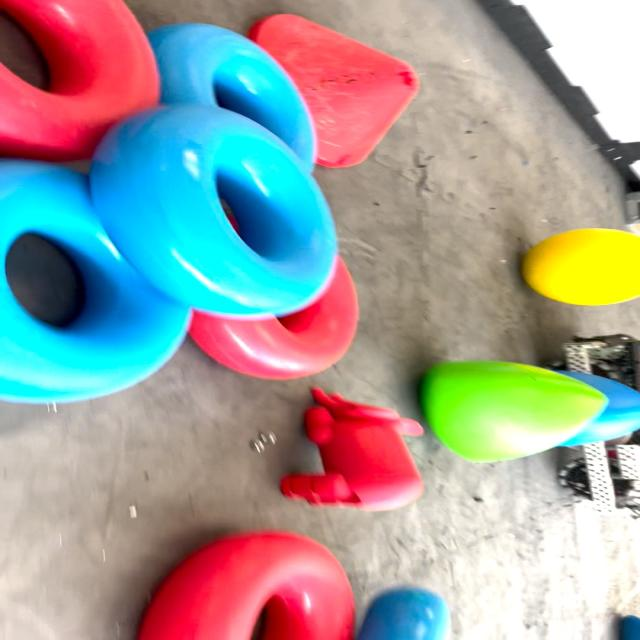Blue-Ring: (89, 106, 338, 316), (0, 159, 191, 404), (149, 24, 316, 170), (353, 586, 450, 640)
Red-Ring: (0, 0, 160, 161), (138, 530, 353, 640), (189, 259, 358, 379)
